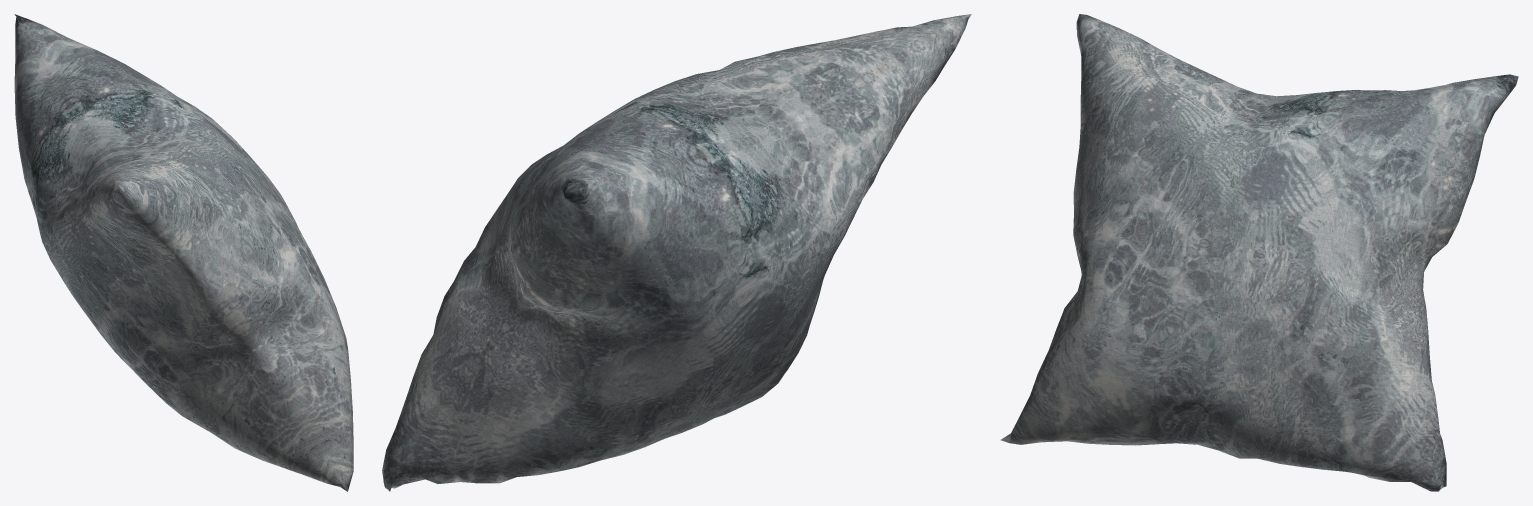
The model's file is Textile_pillow_01.glb.
3 views of the same model, side by side, from view 1: azimuth 30°, elevation 25°; view 2: azimuth 150°, elevation 25°; view 3: azimuth 270°, elevation 25° (orthographic). The views are drawn at different scales.
Parts seen in each view (by area): view 1: pillow_01; view 2: pillow_01; view 3: pillow_01.
Boxes of the visible parts, x1,y1,x2,y2 form: pillow_01: (14,14,353,491); pillow_01: (382,14,971,491); pillow_01: (1000,14,1518,491).
Bounding box in the file's own units: 0.3582 × 0.37 × 0.5212.
Materials: 1 (1 with a texture image).
